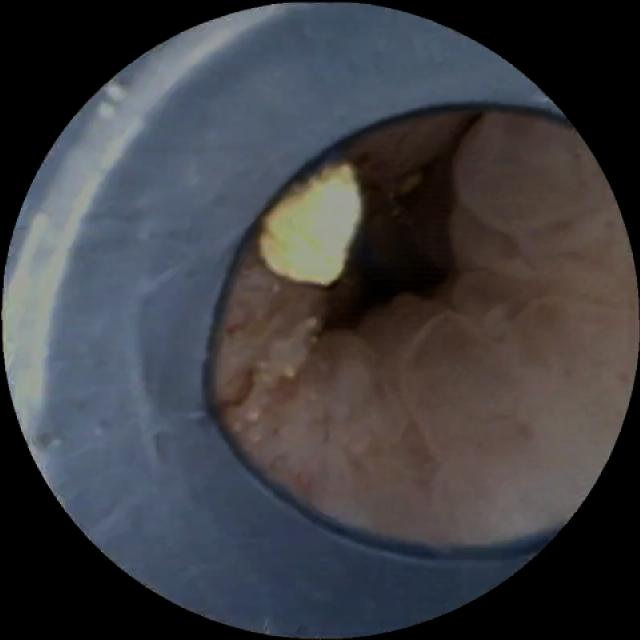stone: (261, 168, 356, 281)
